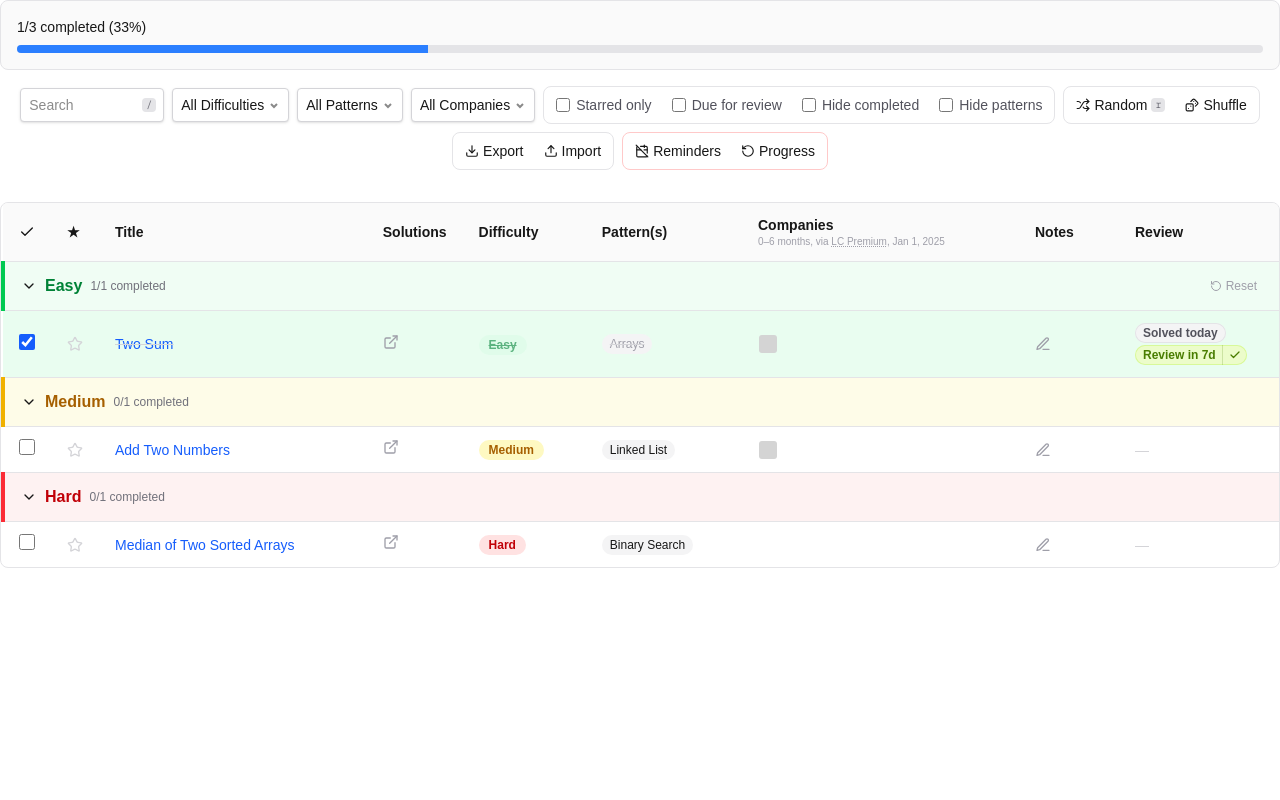
Test case: QuestionsTable analytics › clears reminder when clicking completed button on review pill
Check: the button "Review in 7d" is shown, box [1135, 345, 1222, 365]
What coordinates should you click on to do the following:
click the button named "mark review as completed"
I would click on:
 (1235, 355)
Its box is [1223, 347, 1247, 363].
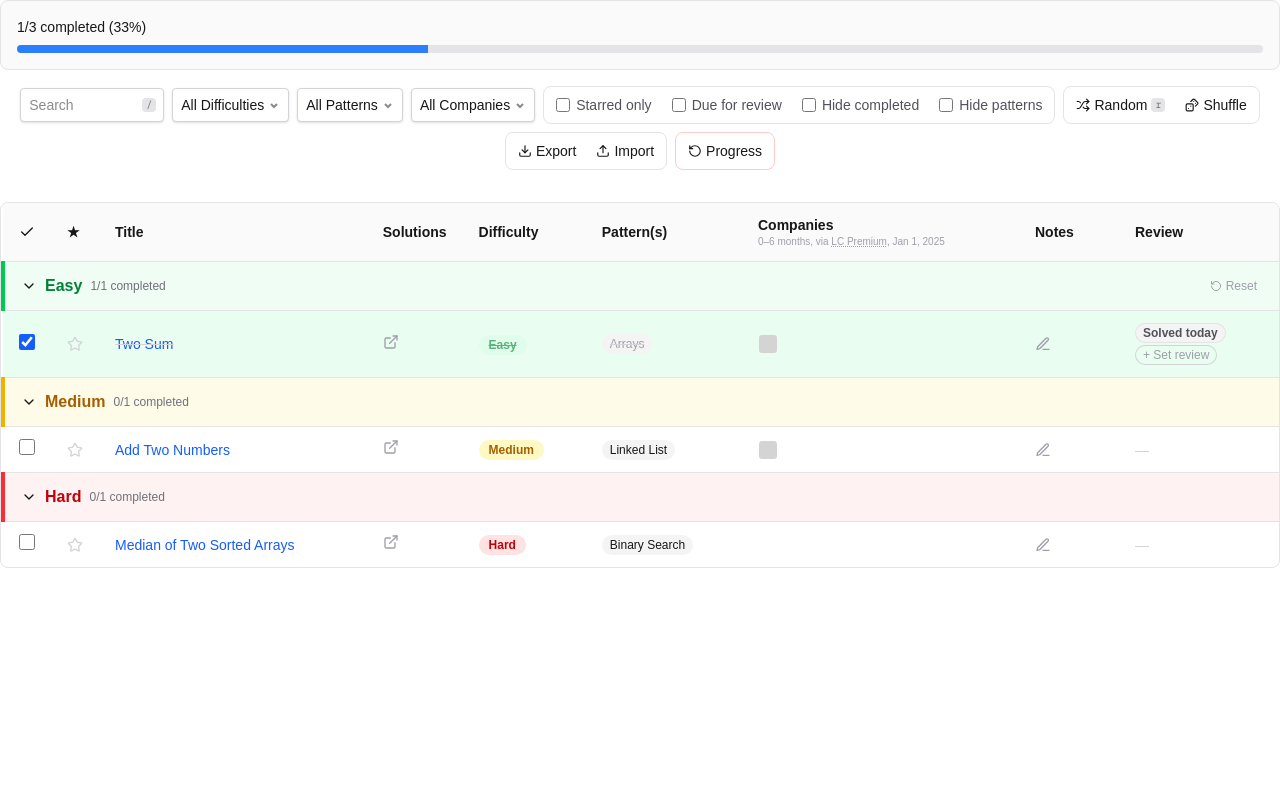
Check: the button "Review in 7d" is gone
Check: the button "+ Set review" is shown, box [1135, 345, 1217, 365]
